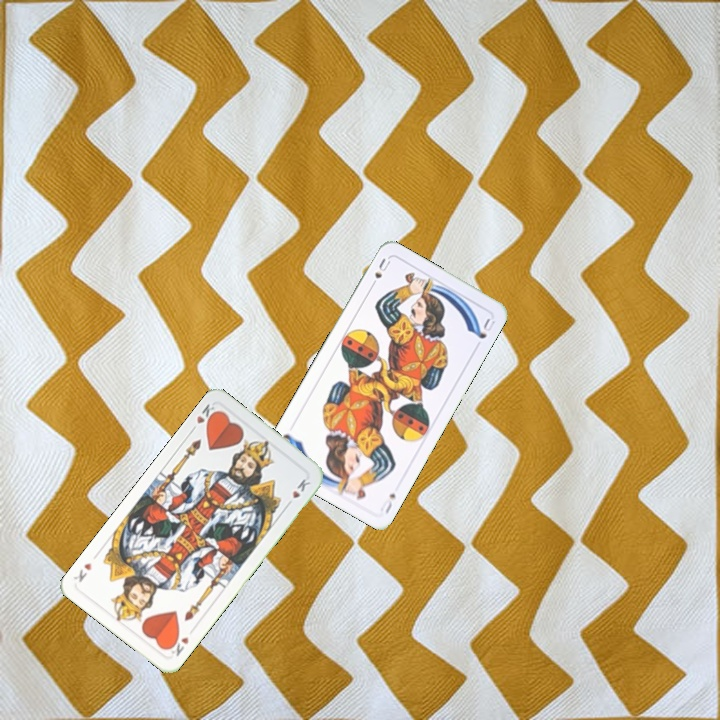HK: (186, 400, 220, 435), (164, 631, 191, 659)
SU: (366, 254, 393, 291), (376, 489, 398, 516)
